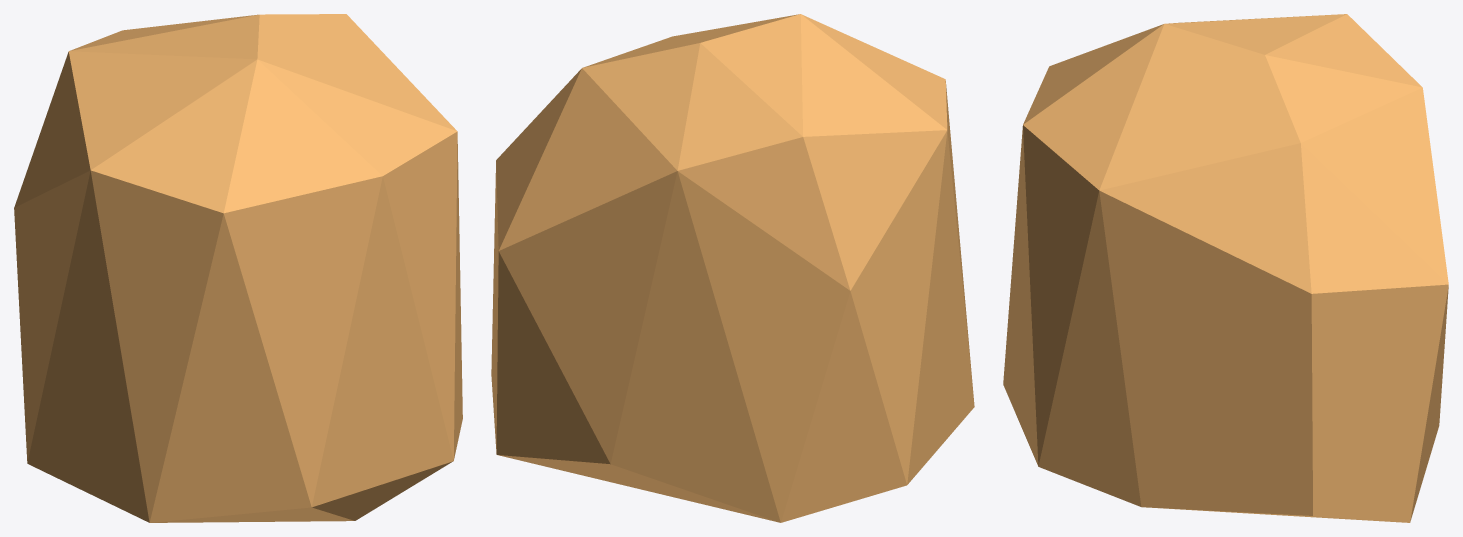
The model's file is Rock1.fbx.
3 renders of one model, left to right at view 1: azimuth 30°, elevation 25°; view 2: azimuth 150°, elevation 25°; view 3: azimuth 270°, elevation 25°, orthographic. The views are drawn at different scales.
Visible parts, largest first — view 1: Rock1; view 2: Rock1; view 3: Rock1.
Boxes of the visible parts, bbox=[...] form: Rock1: bbox=[14, 14, 462, 522]; Rock1: bbox=[491, 14, 974, 522]; Rock1: bbox=[1003, 14, 1448, 522].
Bounding box in the file's own units: 66.36 × 64.78 × 62.52.
